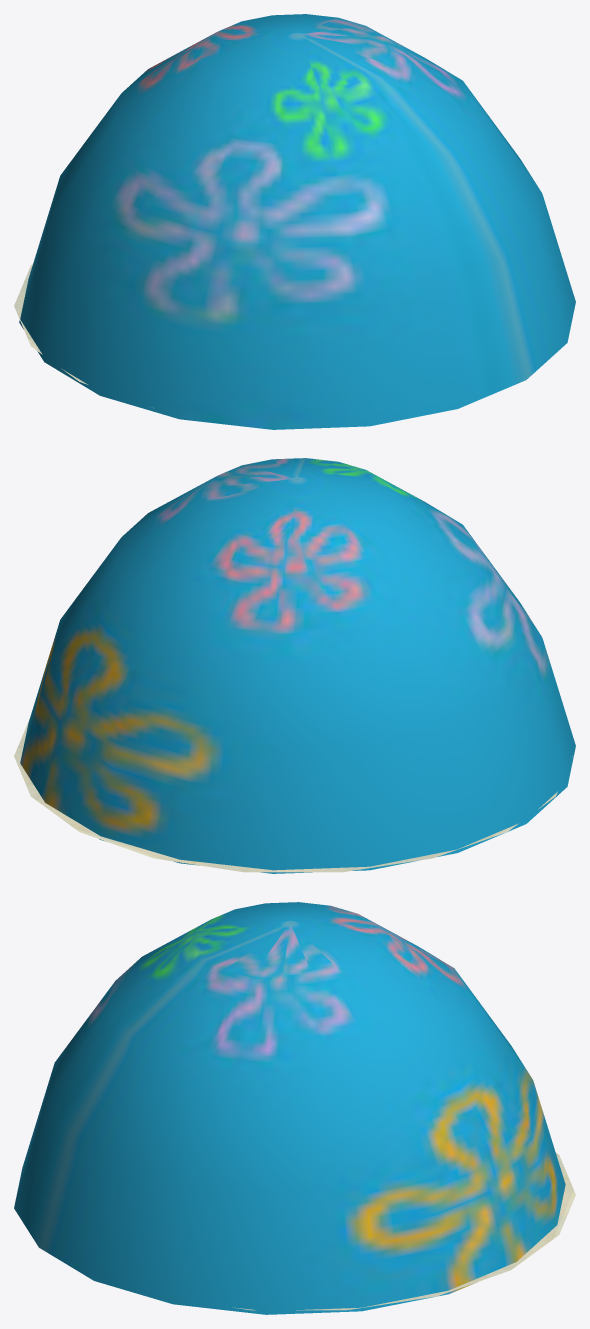
Rendered from patricks-rock-v2.glb.
The picture shows the model from 3 angles, top to bottom: view 1: azimuth 30°, elevation 25°; view 2: azimuth 150°, elevation 25°; view 3: azimuth 270°, elevation 25°; orthographic projection.
Parts seen in each view (by area): view 1: Skybox; view 2: Skybox, Sand; view 3: Skybox, Sand.
Part boxes in pixels (x1,y1,x2,y2): Skybox: [19, 14, 575, 429]; Skybox: [20, 458, 575, 873]; Sand: [14, 719, 572, 872]; Skybox: [14, 902, 565, 1314]; Sand: [232, 1152, 575, 1310].
Bounding box in the file's own units: 3.46 × 1.9 × 3.52.
Materials: 6 (5 with a texture image).
